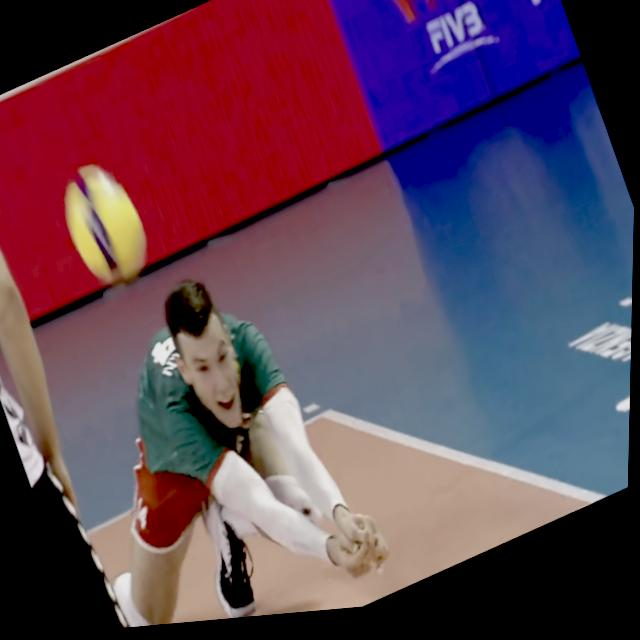player: (19, 232, 406, 638)
